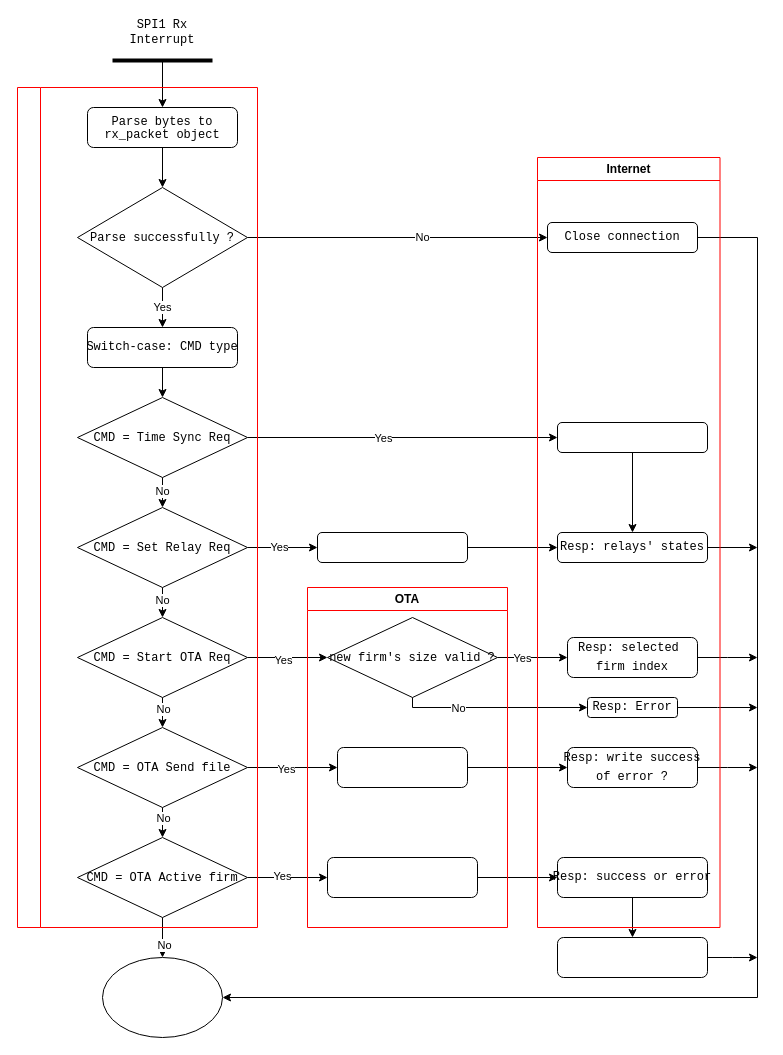
This 783x1055 diagram has some shape labels left out. Each missing label, with the centre of its shape:
Device Driver: (x=137, y=507)
End Handle EXTI: (x=162, y=997)
Reset device: (x=632, y=957)
Retrieve and save time: (x=632, y=437)
Set new firm address: (x=402, y=877)
Set Relays GPIO output: (x=392, y=547)
Write to Flash: (x=402, y=767)
